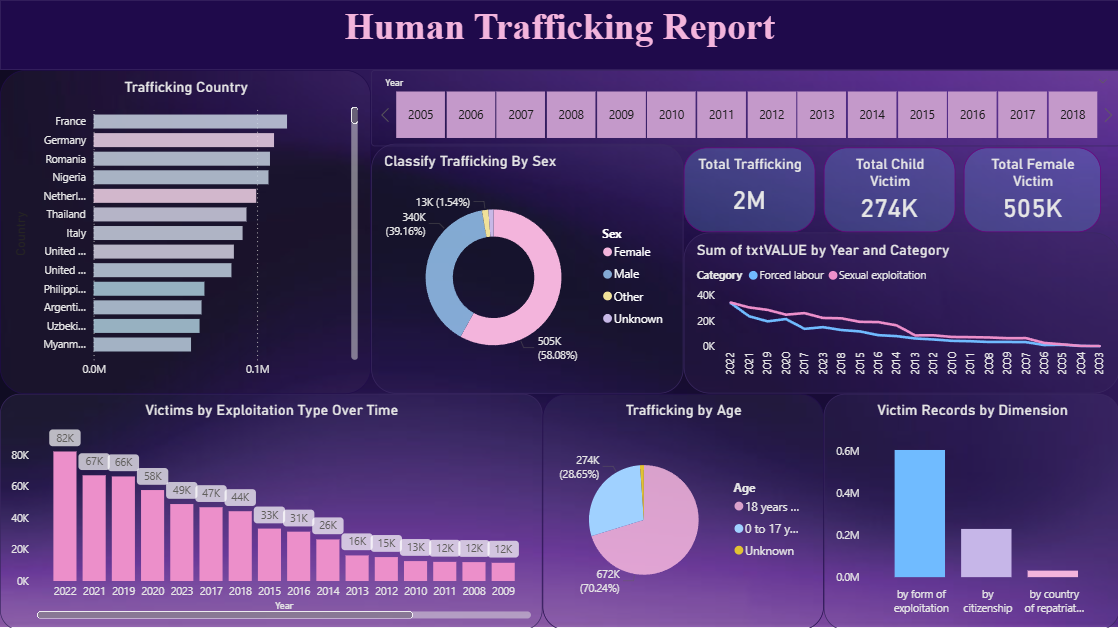

The dashboard page shown, as its layout file describes it:
{"tool":"powerbi","page":{"name":"Page 1","canvas":[1280,720],"ordinal":0},"visuals":[{"type":"textbox","box":[0,0,1280,80],"z":0},{"type":"lineClusteredColumnComboChart","title":"Victims by Exploitation Type Over Time","fields":{"Category":["Sheet1.Year"],"Y":["Sum(Sheet1.txtVALUE)"]},"box":[0,450,620,270],"z":1000},{"type":"clusteredBarChart","title":"Trafficking Country","fields":{"Category":["Sheet1.Country"],"Y":["Sum(Sheet1.txtVALUE)"]},"box":[0,80.5,424.2,370],"z":2000},{"type":"donutChart","title":"Classify Trafficking By Sex","fields":{"Category":["Sheet1.Sex"],"Y":["Sum(Sheet1.txtVALUE)"]},"box":[424.3,164.3,357.1,285.7],"z":3000},{"type":"pieChart","title":"Trafficking by Age","fields":{"Category":["Sheet1.Age"],"Y":["Sum(Sheet1.txtVALUE)"]},"box":[620,450,321.4,270],"z":4000},{"type":"clusteredColumnChart","title":"Victim Records by Dimension","fields":{"Y":["Sum(Sheet1.txtVALUE)"],"Category":["Sheet1.Dimension"]},"box":[941.4,450,338.6,270],"z":5000},{"type":"slicer","fields":{"Values":["Sheet1.Year"]},"box":[423.8,80,856.2,87.5],"z":6000},{"type":"card","title":"Total Trafficking","fields":{"Values":["Sum(Sheet1.txtVALUE)"]},"box":[781.4,168.6,150,97.1],"z":7000},{"type":"lineChart","fields":{"Category":["Sheet1.Year"],"Y":["Sum(Sheet1.txtVALUE)"],"Series":["Sheet1.Category"]},"box":[781.4,265.7,498.6,184.3],"z":8000},{"type":"card","title":"Total Child Victim","fields":{"Values":["Sum(Sheet1.txtVALUE)"]},"box":[941.4,168.6,150,97.1],"z":9000},{"type":"card","title":"Total Female Victim","fields":{"Values":["Sum(Sheet1.txtVALUE)"]},"box":[1101.4,168.6,157.1,97.1],"z":10000}]}

Visuals, with their boxes in screenshot pixels (x1, y1, x2, y2), scaled from the page's 1280x720 canvas onto the 1118x628 screenshot:
textbox: x1=0 y1=0 x2=1117 y2=70
"Victims by Exploitation Type Over Time" lineClusteredColumnComboChart: x1=0 y1=392 x2=542 y2=627
"Trafficking Country" clusteredBarChart: x1=0 y1=70 x2=371 y2=393
"Classify Trafficking By Sex" donutChart: x1=371 y1=143 x2=683 y2=392
"Trafficking by Age" pieChart: x1=542 y1=392 x2=822 y2=627
"Victim Records by Dimension" clusteredColumnChart: x1=822 y1=392 x2=1117 y2=627
slicer - Sheet1.Year: x1=370 y1=70 x2=1117 y2=146
"Total Trafficking" card: x1=683 y1=147 x2=814 y2=232
lineChart - Sheet1.Year x Sum(Sheet1.txtVALUE): x1=683 y1=232 x2=1117 y2=392
"Total Child Victim" card: x1=822 y1=147 x2=953 y2=232
"Total Female Victim" card: x1=962 y1=147 x2=1099 y2=232
